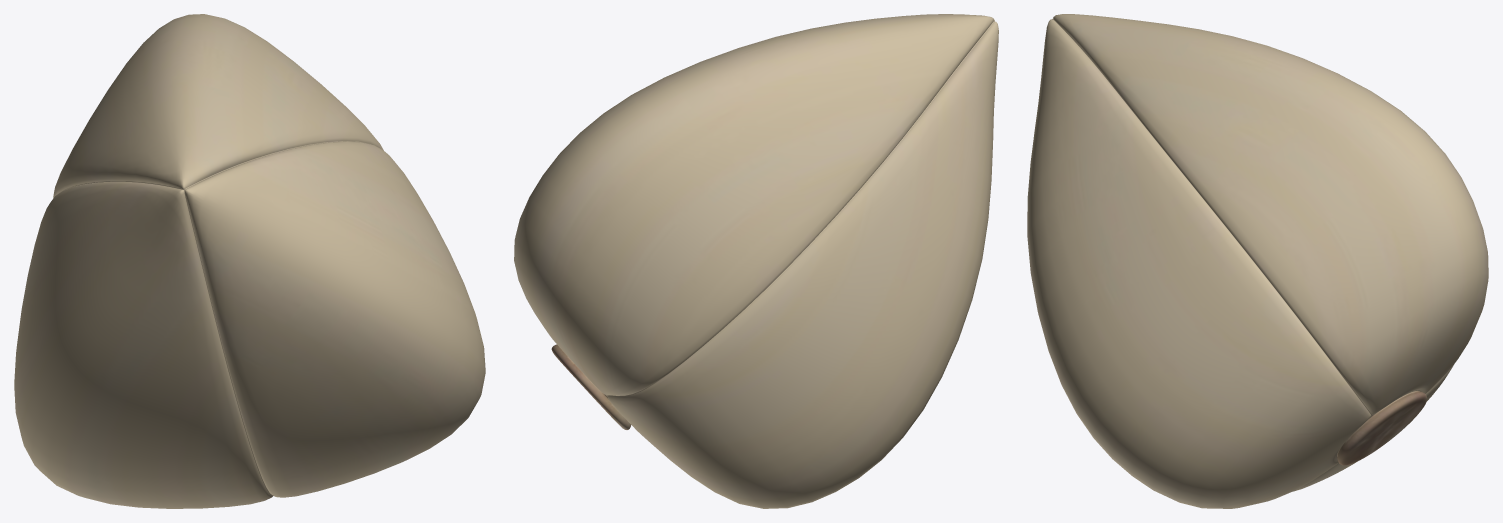
File: GrainBuckwheat005.obj
The picture shows the model from 3 angles, left to right: view 1: azimuth 30°, elevation 25°; view 2: azimuth 150°, elevation 25°; view 3: azimuth 270°, elevation 25°; orthographic projection. The views are drawn at different scales.
Visible parts, largest first — view 1: GrainBuckwheat005; view 2: GrainBuckwheat005; view 3: GrainBuckwheat005.
Part boxes in pixels (<box>): GrainBuckwheat005: <box>14,14,485,508</box>; GrainBuckwheat005: <box>514,14,998,508</box>; GrainBuckwheat005: <box>1027,14,1488,508</box>.
Bounding box in the file's own units: 0.0259 × 0.0273 × 0.0271.
1 material, 1 textured.
